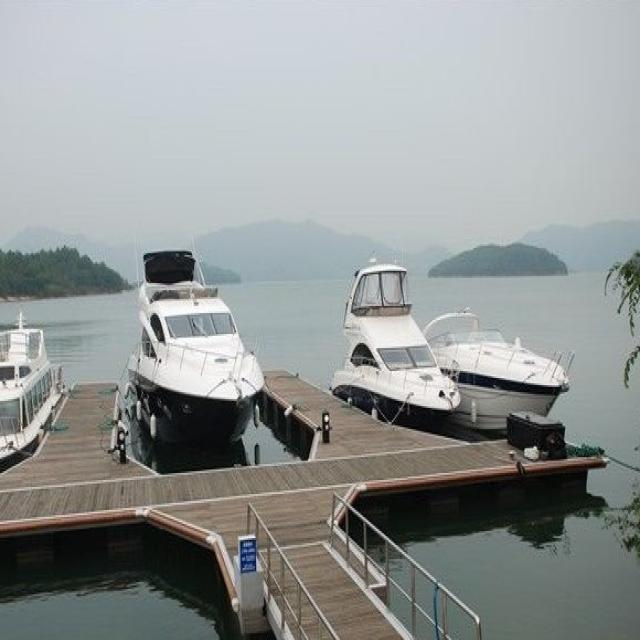houseboat: (121, 235, 262, 450), (335, 256, 458, 426), (424, 294, 570, 430), (0, 307, 56, 471)
